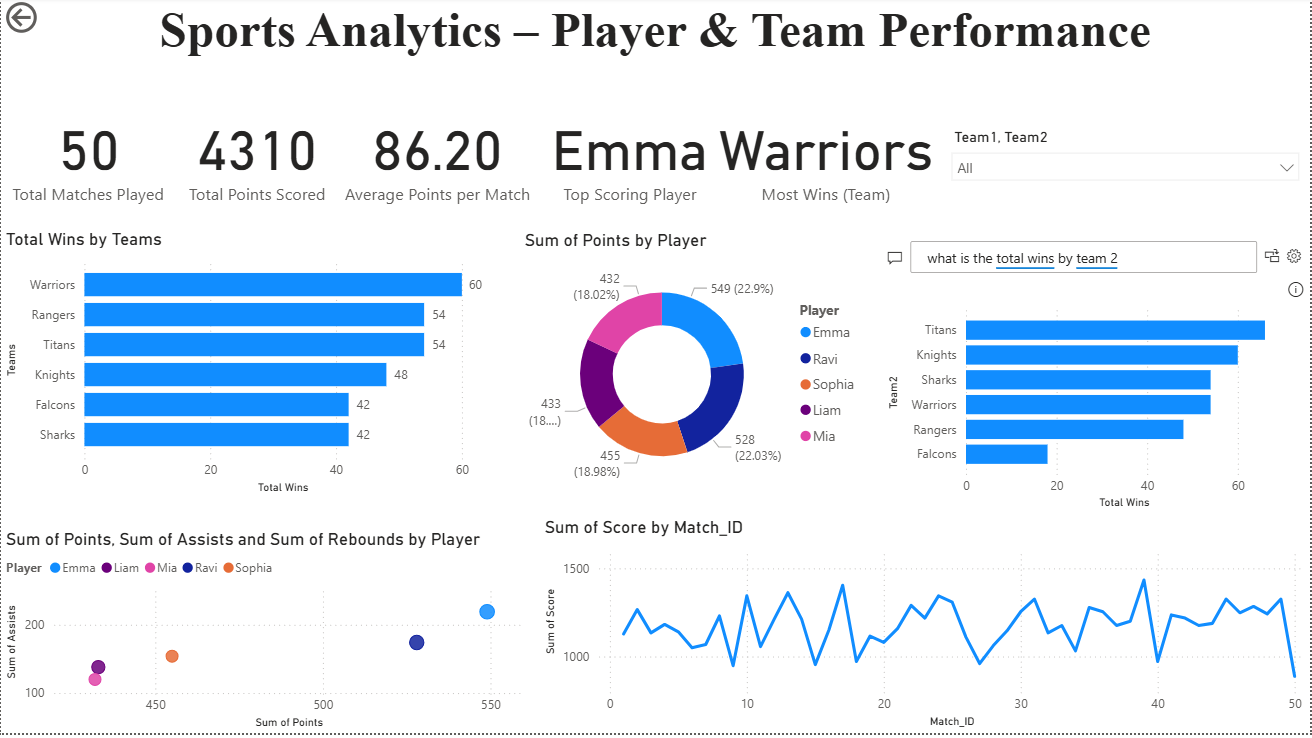

Layout of this report page (visuals, bound fields, positions):
{"tool":"powerbi","page":{"name":"Page 1","canvas":[1280,720],"ordinal":0},"visuals":[{"type":"textbox","box":[0,0,1280,78.3],"z":0},{"type":"card","fields":{"Values":["sports_analytics_dataset.Total Matches"]},"box":[0,79,171.2,149.3],"z":1000},{"type":"card","fields":{"Values":["sports_analytics_dataset.Total Points"]},"box":[171.2,79,159.5,149.3],"z":2000},{"type":"card","fields":{"Values":["sports_analytics_dataset.Avg Points per Match"]},"box":[327.8,79,199,149.3],"z":3000},{"type":"card","fields":{"Values":["sports_analytics_dataset.Top Scoring Player"]},"box":[526.8,79,177.1,149.3],"z":4000},{"type":"card","fields":{"Values":["sports_analytics_dataset.Most Wins (Team)"]},"box":[695.1,79,225.4,149.3],"z":5000},{"type":"clusteredBarChart","fields":{"Category":["sports_analytics_dataset.Winner"],"Y":["sports_analytics_dataset.Match_ID"]},"box":[0,226.8,482.9,264.6],"z":6000},{"type":"lineChart","fields":{"Category":["MatchScores.Match_ID"],"Y":["MatchScores.Score"]},"box":[526.8,508.5,753.7,211],"z":7000},{"type":"donutChart","fields":{"Category":["sports_analytics_dataset.Player"],"Y":["sports_analytics_dataset.Points"]},"box":[507.3,228,341.5,264.6],"z":8000},{"type":"scatterChart","fields":{"X":["sports_analytics_dataset.Points"],"Y":["sports_analytics_dataset.Assists"],"Size":["sports_analytics_dataset.Rebounds"],"Series":["sports_analytics_dataset.Player"]},"box":[0,519.5,526.8,201.2],"z":9000},{"type":"slicer","fields":{"Values":["sports_analytics_dataset.Team1","sports_analytics_dataset.Team2"]},"box":[919.6,123.5,360.7,81.9],"z":10000},{"type":"actionButton","box":[0,0,100,40],"z":11000},{"type":"qnaVisual","box":[858.4,214,421.9,305.7],"z":12000}]}

Visuals, with their boxes in screenshot pixels (x1, y1, x2, y2), scaled from the page's 1280x720 canvas onto the 1312x738 screenshot:
textbox: left=0, top=0, right=1311, bottom=80
card - sports_analytics_dataset.Total Matches: left=0, top=81, right=175, bottom=234
card - sports_analytics_dataset.Total Points: left=175, top=81, right=339, bottom=234
card - sports_analytics_dataset.Avg Points per Match: left=336, top=81, right=540, bottom=234
card - sports_analytics_dataset.Top Scoring Player: left=540, top=81, right=721, bottom=234
card - sports_analytics_dataset.Most Wins (Team): left=712, top=81, right=944, bottom=234
clusteredBarChart - sports_analytics_dataset.Winner x sports_analytics_dataset.Match_ID: left=0, top=232, right=495, bottom=504
lineChart - MatchScores.Match_ID x MatchScores.Score: left=540, top=521, right=1311, bottom=737
donutChart - sports_analytics_dataset.Player x sports_analytics_dataset.Points: left=520, top=234, right=870, bottom=505
scatterChart - sports_analytics_dataset.Points x sports_analytics_dataset.Assists: left=0, top=532, right=540, bottom=737
slicer - sports_analytics_dataset.Team1 x sports_analytics_dataset.Team2: left=943, top=127, right=1311, bottom=211
actionButton: left=0, top=0, right=102, bottom=41
qnaVisual: left=880, top=219, right=1311, bottom=533
